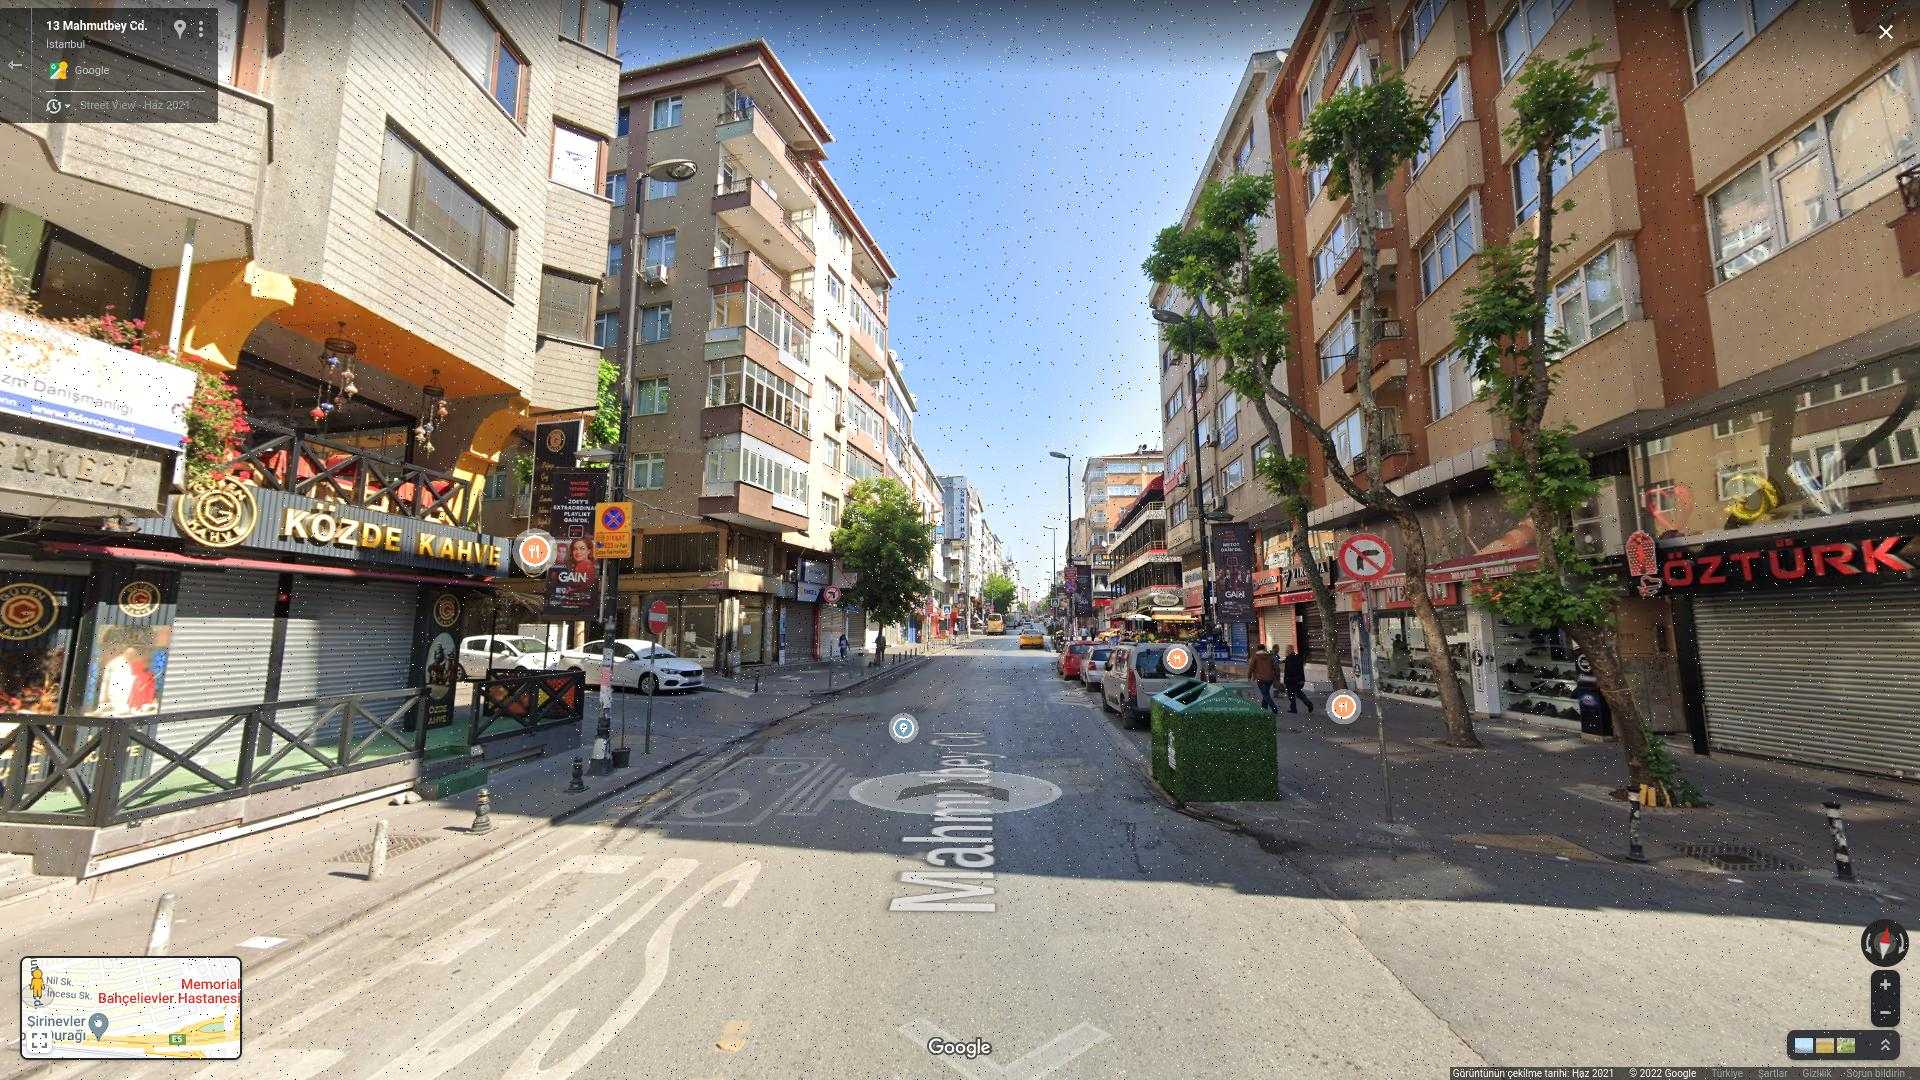leftturnsareforbidden: (822, 583, 845, 603)
rightturnsareforbidden: (1340, 530, 1407, 593)
